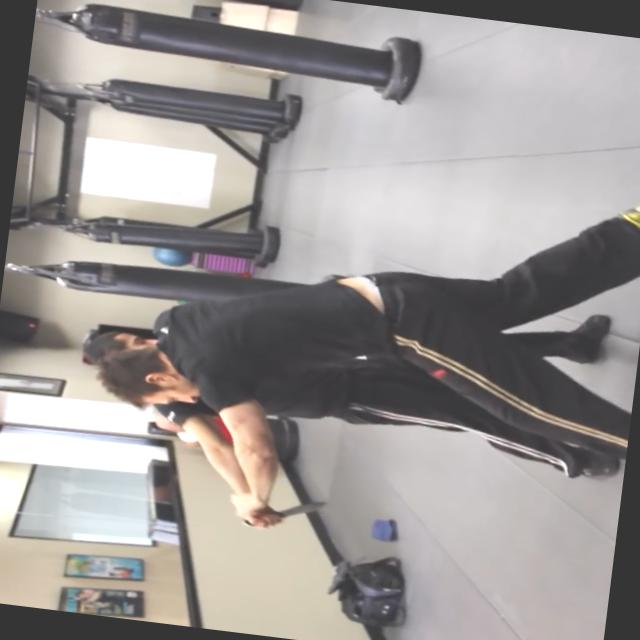knife: (238, 487, 332, 538)
